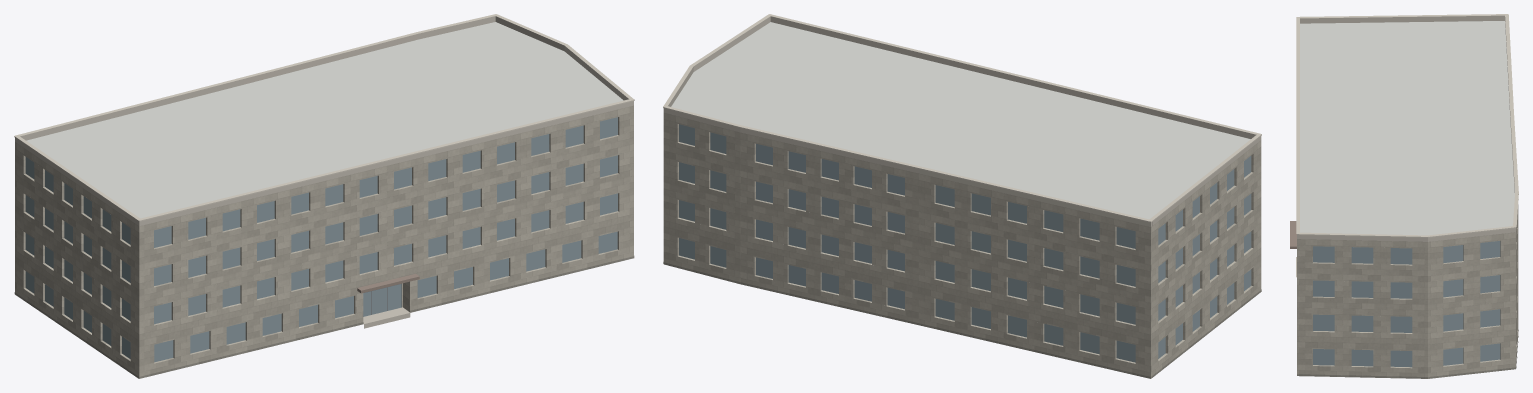
3 views of the same model, side by side, from view 1: azimuth 30°, elevation 25°; view 2: azimuth 150°, elevation 25°; view 3: azimuth 270°, elevation 25° (orthographic). The views are drawn at different scales.
Parts seen in each view (by area): view 1: osm631011004__wall, osm631011004__roof, osm631011004__glass, osm631011004__parapet, osm631011004__trim, osm631011004__base, osm631011004__entranceThreshold_0; view 2: osm631011004__wall, osm631011004__roof, osm631011004__glass, osm631011004__parapet, osm631011004__trim, osm631011004__base; view 3: osm631011004__roof, osm631011004__wall, osm631011004__glass, osm631011004__trim, osm631011004__parapet, osm631011004__base.
Boxes of the visible parts, <box> form: osm631011004__wall: <box>15,105,633,378</box>; osm631011004__roof: <box>26,22,623,218</box>; osm631011004__glass: <box>25,117,617,362</box>; osm631011004__parapet: <box>15,16,633,226</box>; osm631011004__trim: <box>14,14,634,221</box>; osm631011004__base: <box>14,256,634,378</box>; osm631011004__entranceThreshold_0: <box>363,307,410,328</box>; osm631011004__wall: <box>663,113,1261,378</box>; osm631011004__roof: <box>671,22,1250,219</box>; osm631011004__glass: <box>679,124,1251,362</box>; osm631011004__parapet: <box>663,16,1261,226</box>; osm631011004__trim: <box>663,14,1261,222</box>; osm631011004__base: <box>663,262,1261,378</box>; osm631011004__roof: <box>1300,21,1514,378</box>; osm631011004__wall: <box>1297,205,1518,378</box>; osm631011004__glass: <box>1313,241,1500,367</box>; osm631011004__trim: <box>1296,14,1518,237</box>; osm631011004__parapet: <box>1297,15,1516,241</box>; osm631011004__base: <box>1297,330,1518,378</box>.
Size of the model in its own units: 50.31 by 15.35 by 21.82.
Materials: 10 (2 with a texture image).
